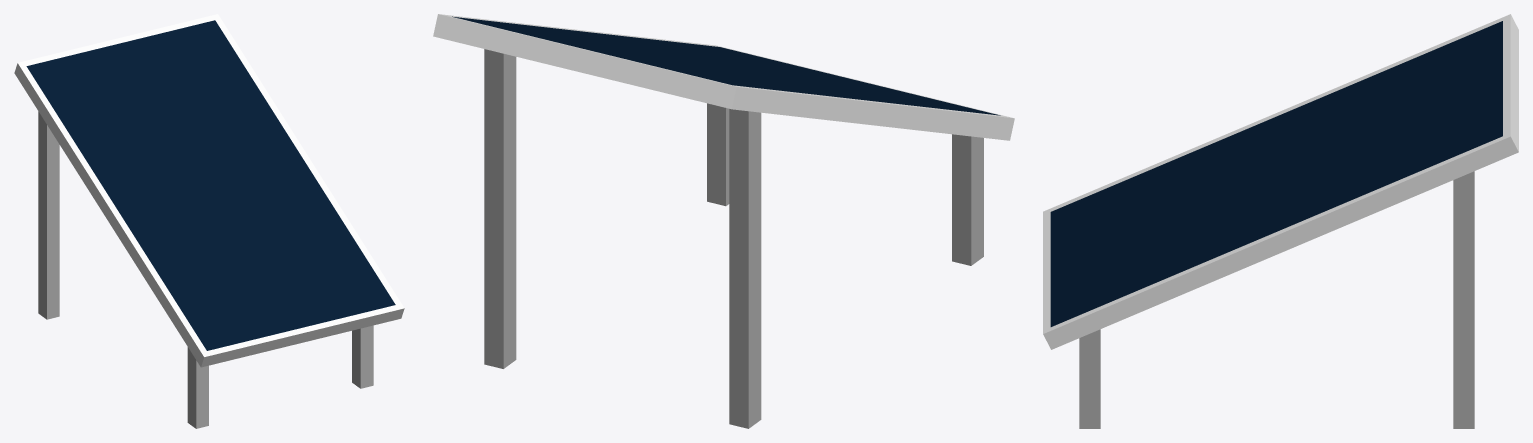
Rendered from SM_RoofElement_04.FBX.
3 views of the same model, side by side, from view 1: azimuth 30°, elevation 25°; view 2: azimuth 150°, elevation 25°; view 3: azimuth 270°, elevation 25° (orthographic). The views are drawn at different scales.
Visible parts, largest first — view 1: SM_RoofElement_04; view 2: SM_RoofElement_04; view 3: SM_RoofElement_04.
Part boxes in pixels (x1,y1,x2,y2): SM_RoofElement_04: (14,14,404,428); SM_RoofElement_04: (433,14,1014,428); SM_RoofElement_04: (1043,14,1518,428).
Bounding box in the file's own units: 1.2 × 1.38 × 1.97.
Materials: 1 (1 with a texture image).
